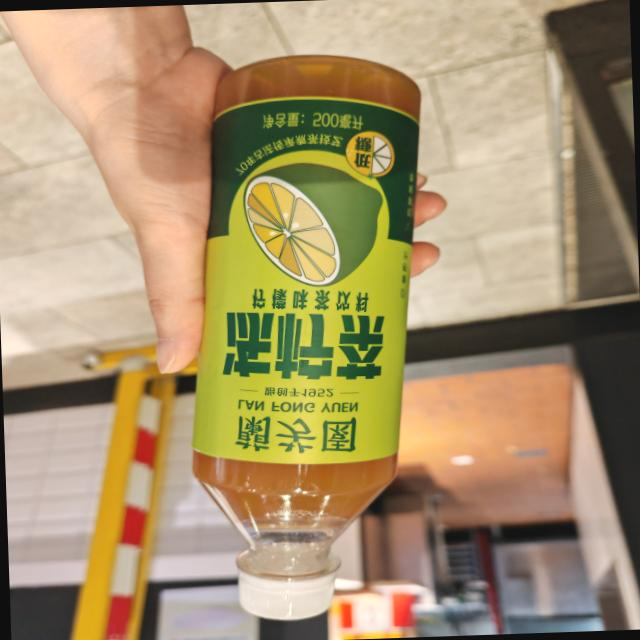bottle: (174, 48, 443, 624)
